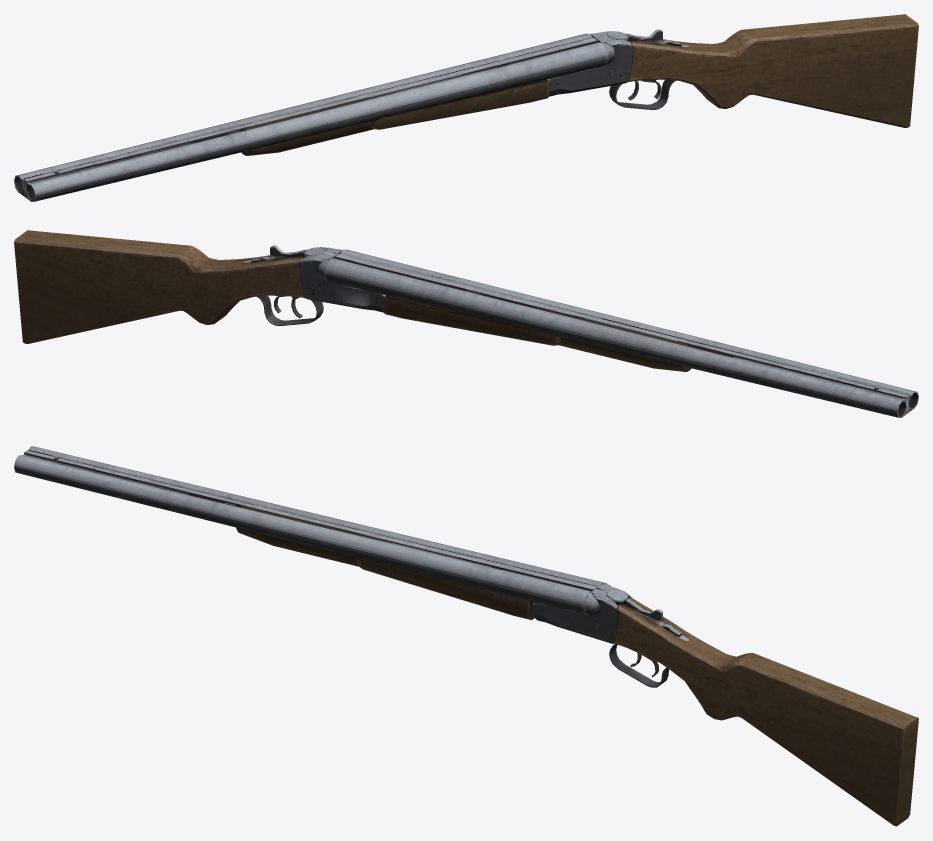
Rendered from dbl_barrel.fbx.
3 views of the same model, one above another, from view 1: azimuth 30°, elevation 25°; view 2: azimuth 150°, elevation 25°; view 3: azimuth 330°, elevation 25° (orthographic).
Visible parts, largest first — view 1: double_barrel, double_barrel_gun, shotgun_shutter; view 2: double_barrel, double_barrel_gun, shotgun_shutter; view 3: double_barrel, double_barrel_gun, shotgun_shutter.
Part boxes in pixels (x1,y1,x2,y2): double_barrel: (547,14,918,127); double_barrel_gun: (14,33,608,201); shotgun_shutter: (241,91,396,155); double_barrel: (14,230,385,343); double_barrel_gun: (324,249,918,417); shotgun_shutter: (536,307,691,371); double_barrel: (532,583,918,826); double_barrel_gun: (14,446,608,620); shotgun_shutter: (236,503,392,566).
Size of the model in its own units: 891 by 154 by 42.79.
2 materials, 2 textured.
